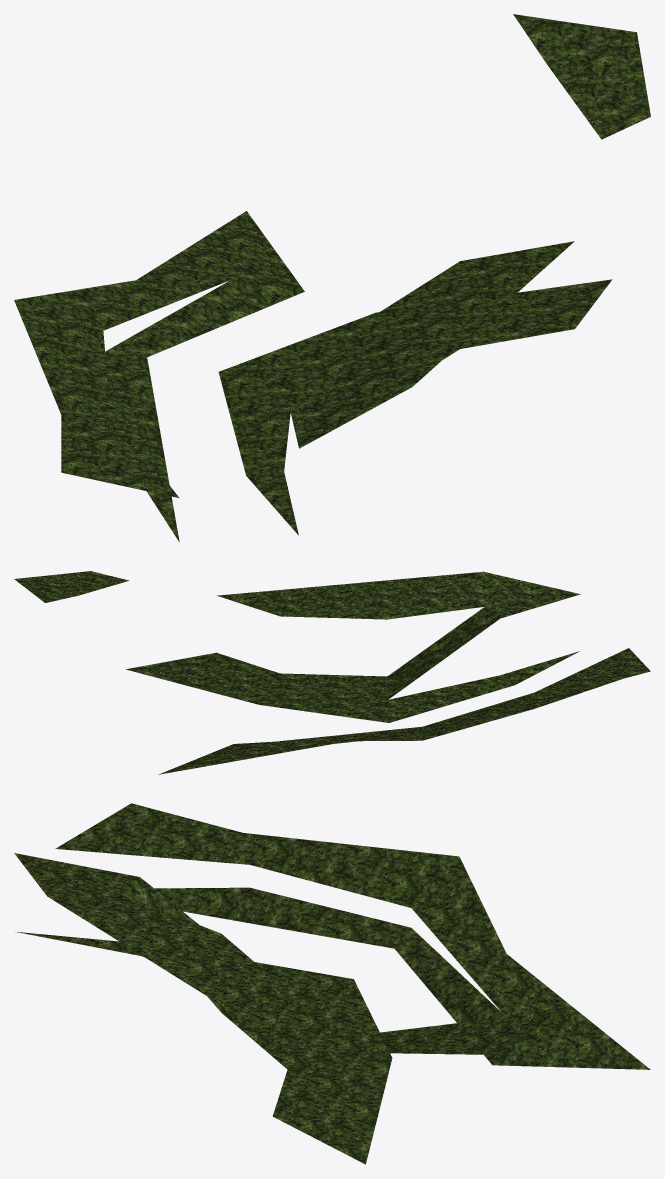
File: rihousegrass.obj
3 views of the same model, one above another, from view 1: azimuth 30°, elevation 25°; view 2: azimuth 150°, elevation 25°; view 3: azimuth 270°, elevation 25° (orthographic). The views are drawn at different scales.
Parts seen in each view (by area): view 1: rihousegrass; view 2: rihousegrass; view 3: rihousegrass.
Boxes of the visible parts, x1,y1,x2,y2 form: rihousegrass: (14,14,650,541); rihousegrass: (14,571,650,774); rihousegrass: (14,803,650,1164).
Size of the model in its own units: 4.11 by 0.9412 by 3.23.
